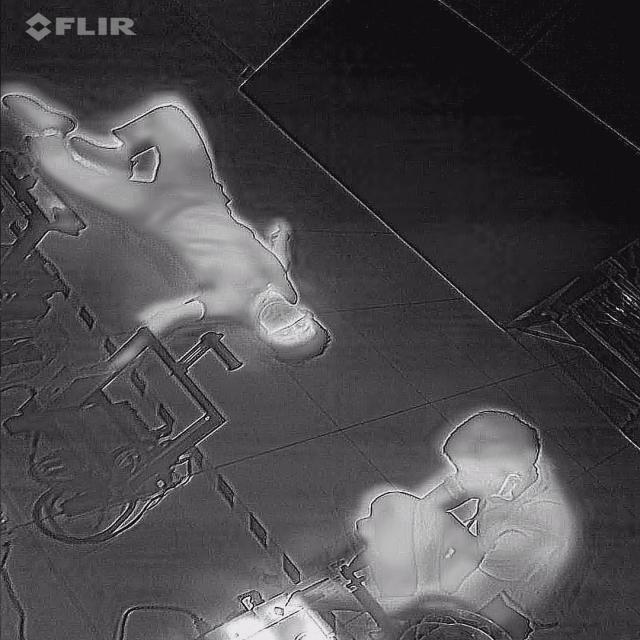Victim: (0, 81, 338, 375), (337, 394, 592, 637)
